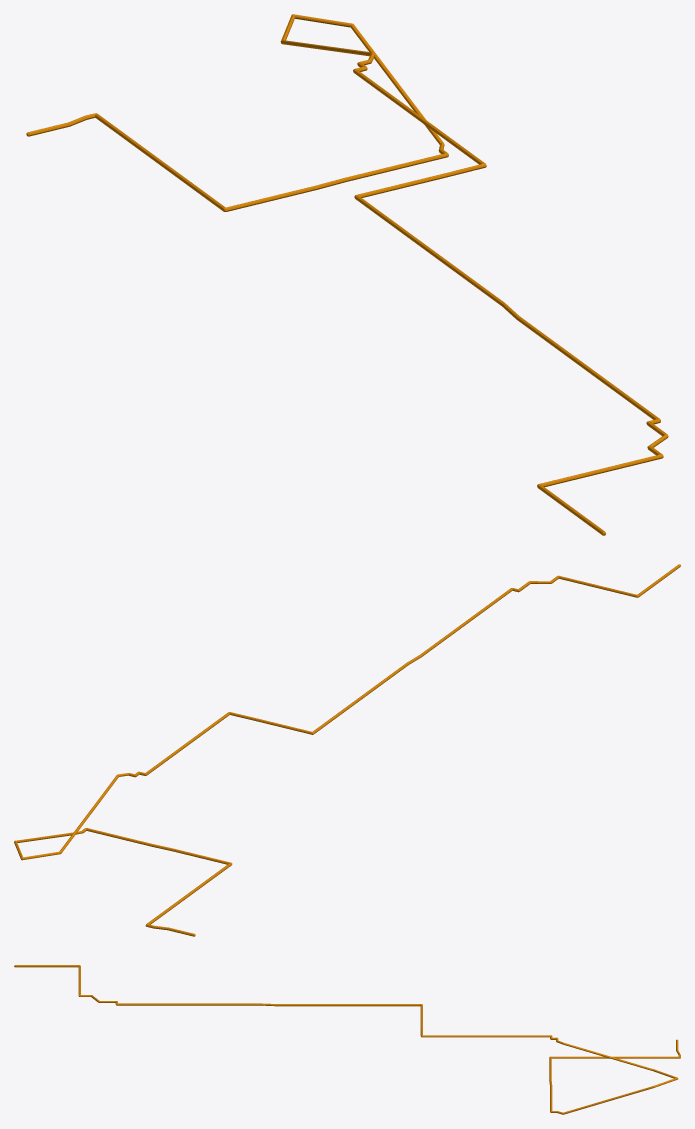
The picture shows the model from 3 angles, top to bottom: view 1: azimuth 30°, elevation 25°; view 2: azimuth 150°, elevation 25°; view 3: azimuth 270°, elevation 25°; orthographic projection. The views are drawn at different scales.
Bounding box in the file's own units: 1918 × 520 × 5674.
